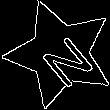N_NW: (27, 22, 92, 86)
